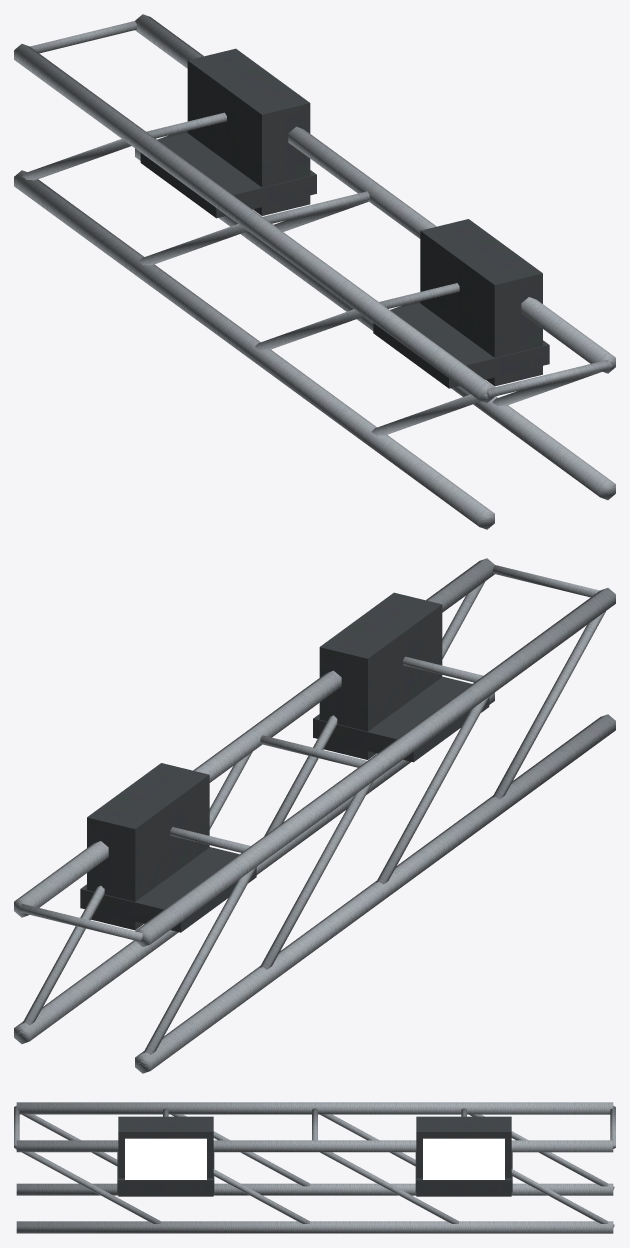
Rendered from lighting-truss_far.glb.
3 renders of one model, top to bottom at view 1: azimuth 30°, elevation 25°; view 2: azimuth 150°, elevation 25°; view 3: azimuth 270°, elevation 25°, orthographic. The views are drawn at different scales.
Visible parts, largest first — view 1: galvanised, dark-steel; view 2: galvanised, dark-steel; view 3: galvanised, dark-steel, floodlight-emitter.
Boxes of the visible parts, box(x1,y1,x2,y2) form: galvanised: box(14, 14, 615, 529); dark-steel: box(140, 48, 549, 388); galvanised: box(14, 558, 615, 1073); dark-steel: box(80, 592, 489, 932); galvanised: box(14, 1102, 615, 1233); dark-steel: box(117, 1116, 512, 1196); floodlight-emitter: box(125, 1138, 504, 1179).
Bounding box in the file's own units: 0.7389 × 0.7849 × 4.04.
3 materials, 2 textured.
